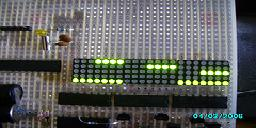LED: (72, 77, 127, 85), (176, 79, 226, 87), (93, 58, 123, 66), (145, 63, 179, 70), (201, 70, 226, 77), (35, 27, 45, 37)
